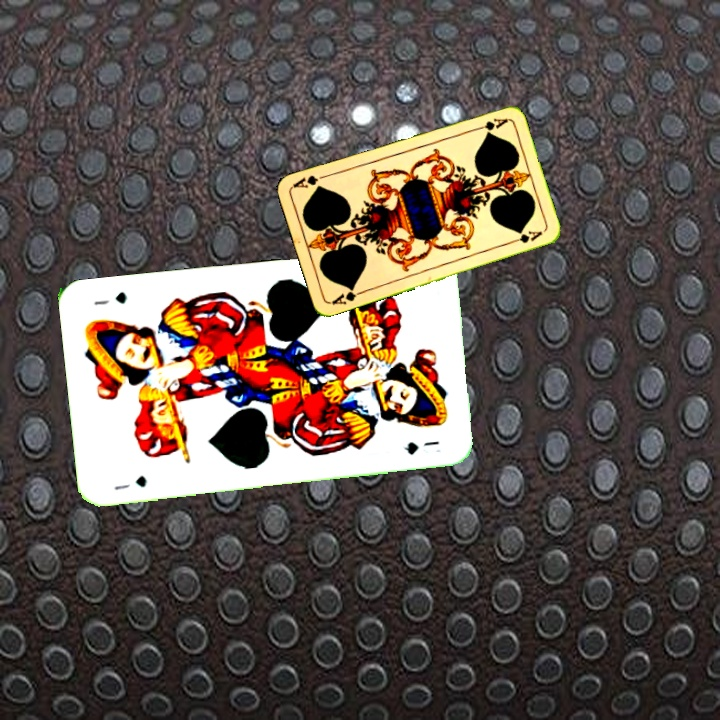GA: (328, 283, 367, 308), (470, 114, 510, 134)
GU: (110, 472, 149, 493)
